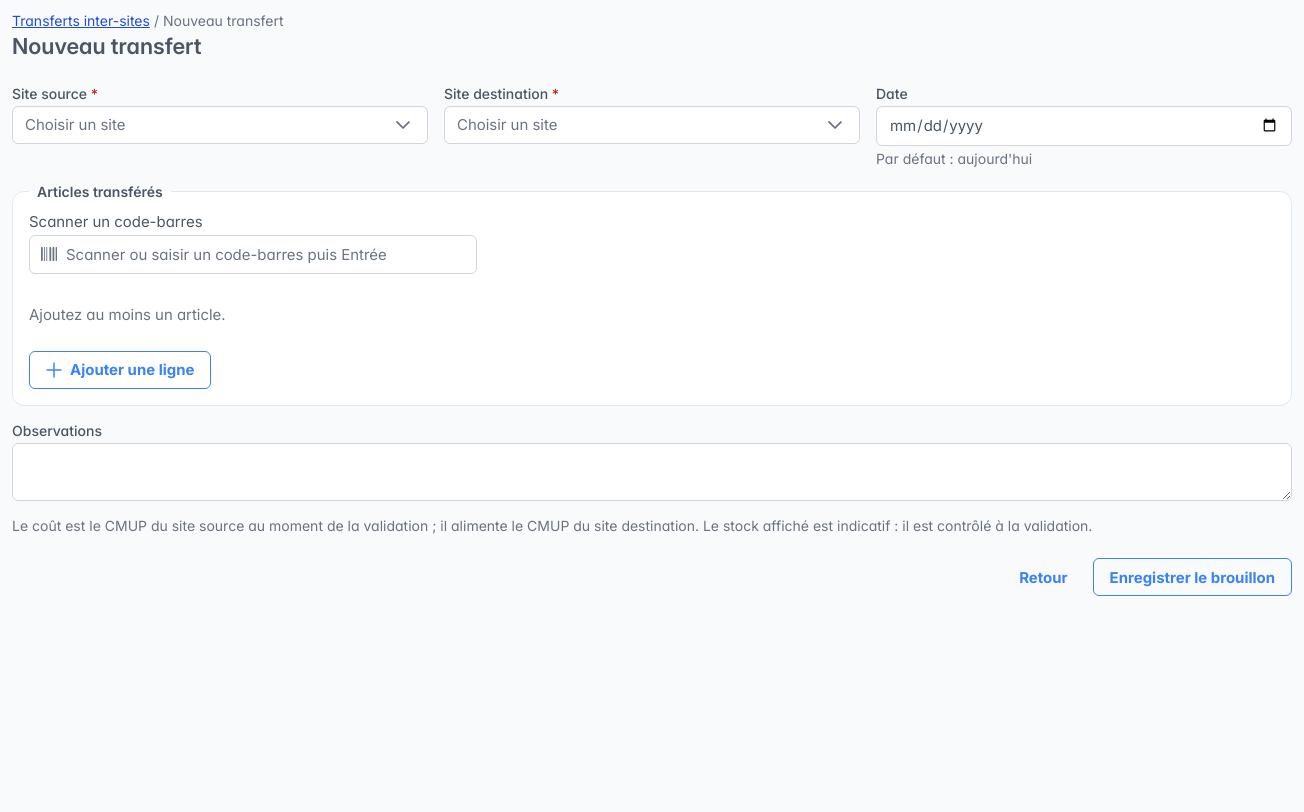
Test case: scan des écrans opérationnels (Lot 3-D) › code inconnu : message explicite, aucune ligne ajoutée
This screenshot has width=1304, height=812.
Type "C-12" into the field labelled "Scanner un code-barres". click: (253, 254)
box: [29, 235, 477, 274]
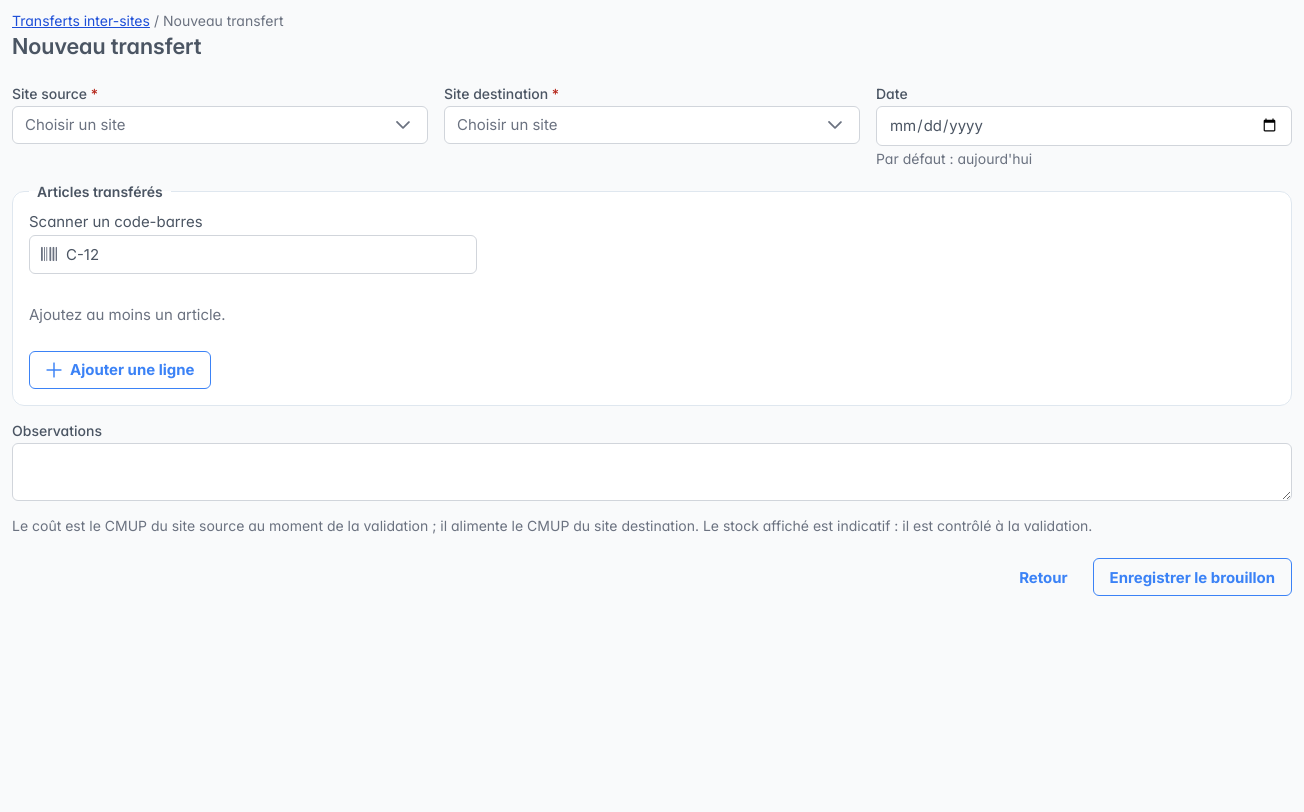
Press Enter in the field labelled "Scanner un code-barres", box [29, 235, 477, 274]
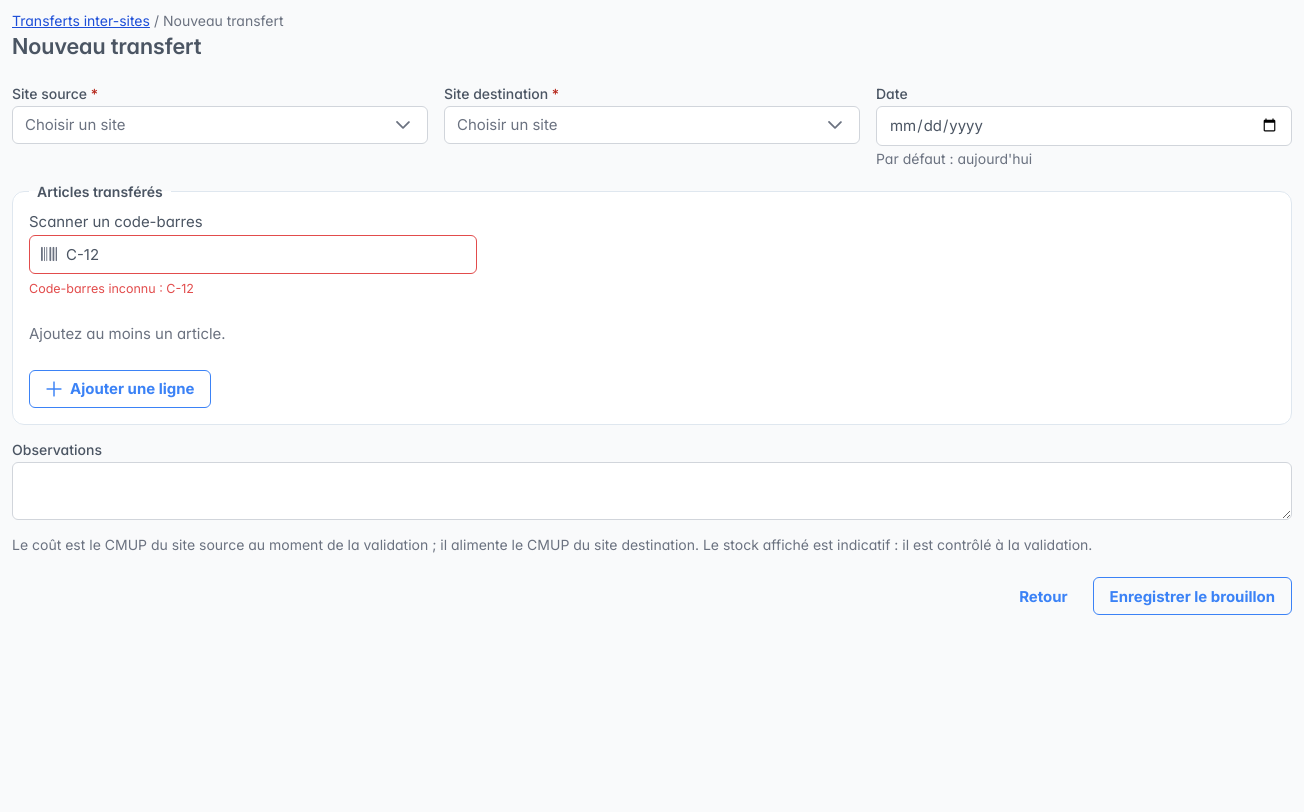
Expected: the text "Ajoutez au moins un article." is shown, [29, 324, 226, 343]
Expected: the message reads "Code-barres inconnu : C-12", [29, 281, 194, 296]
